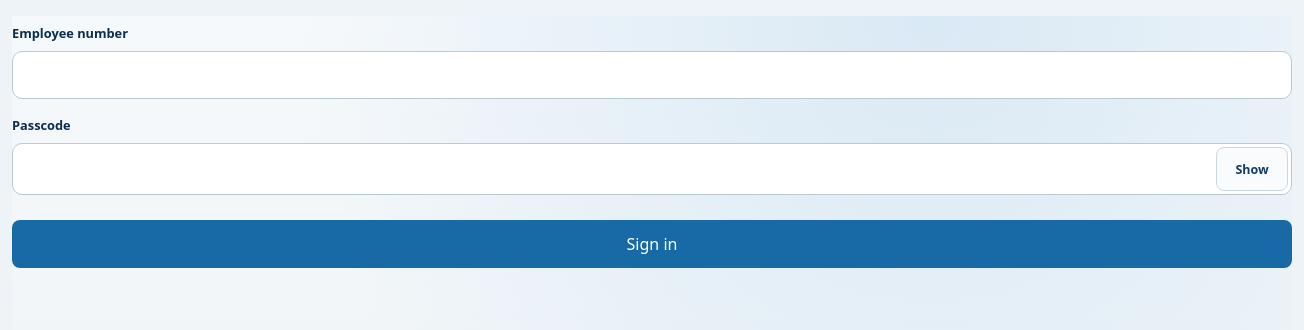
it: LoginForm › owns required-field feedback and focuses the first missing field
The width and height of the screenshot is (1304, 330).
What coordinates should you click on to do the following:
click the button "Sign in"
I would click on:
 (652, 244)
Its box is [12,220,1292,268].
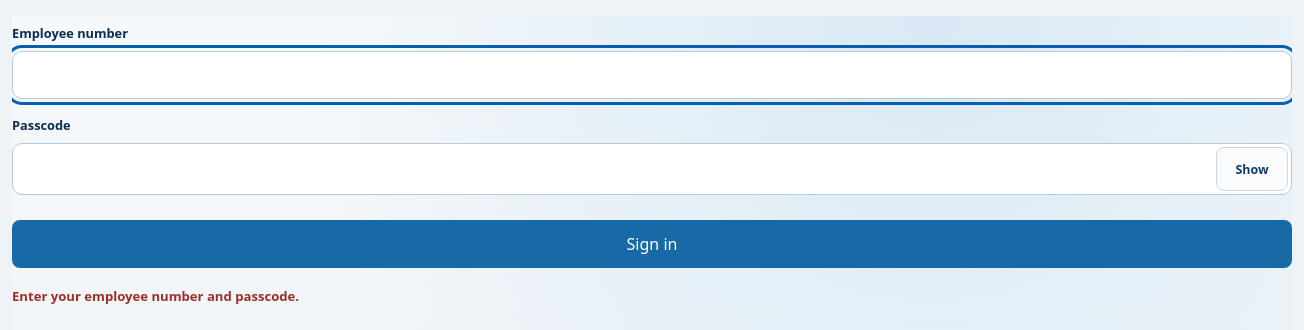
Expected: the text "Enter your employee number and passcode." is shown, [12,287,299,305]
